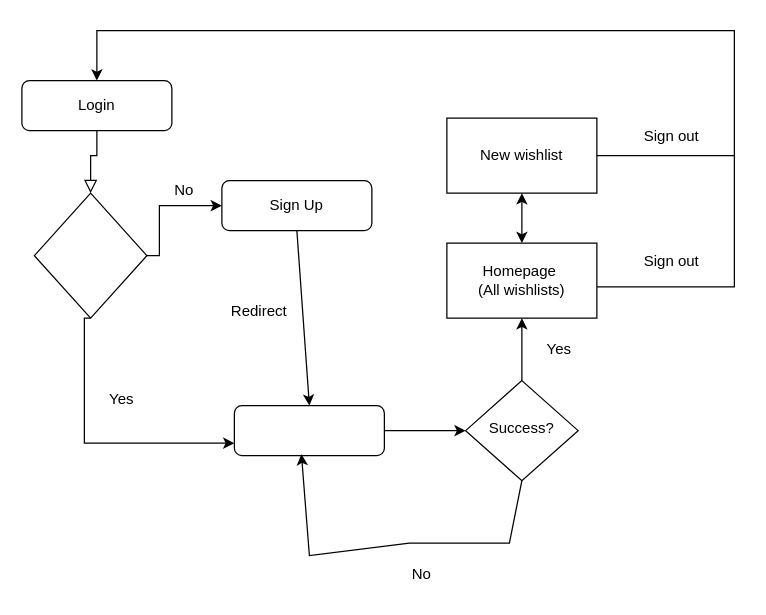
Image size: 766x615. Some labels were removed from this diagram. Here are the shapes that lost their labels. From the top down, the centre of each, then its label:
At (x=90, y=255): "Existing User?".
At (x=308, y=430): "Sign in as existing user".
